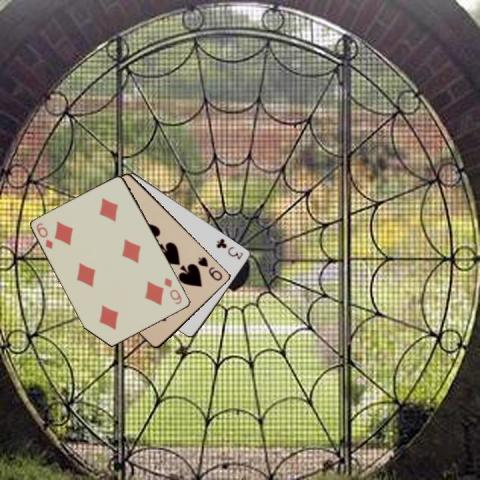3c: (213, 235, 245, 261)
6d: (162, 275, 184, 306), (33, 220, 55, 251)
9s: (195, 254, 224, 282)
